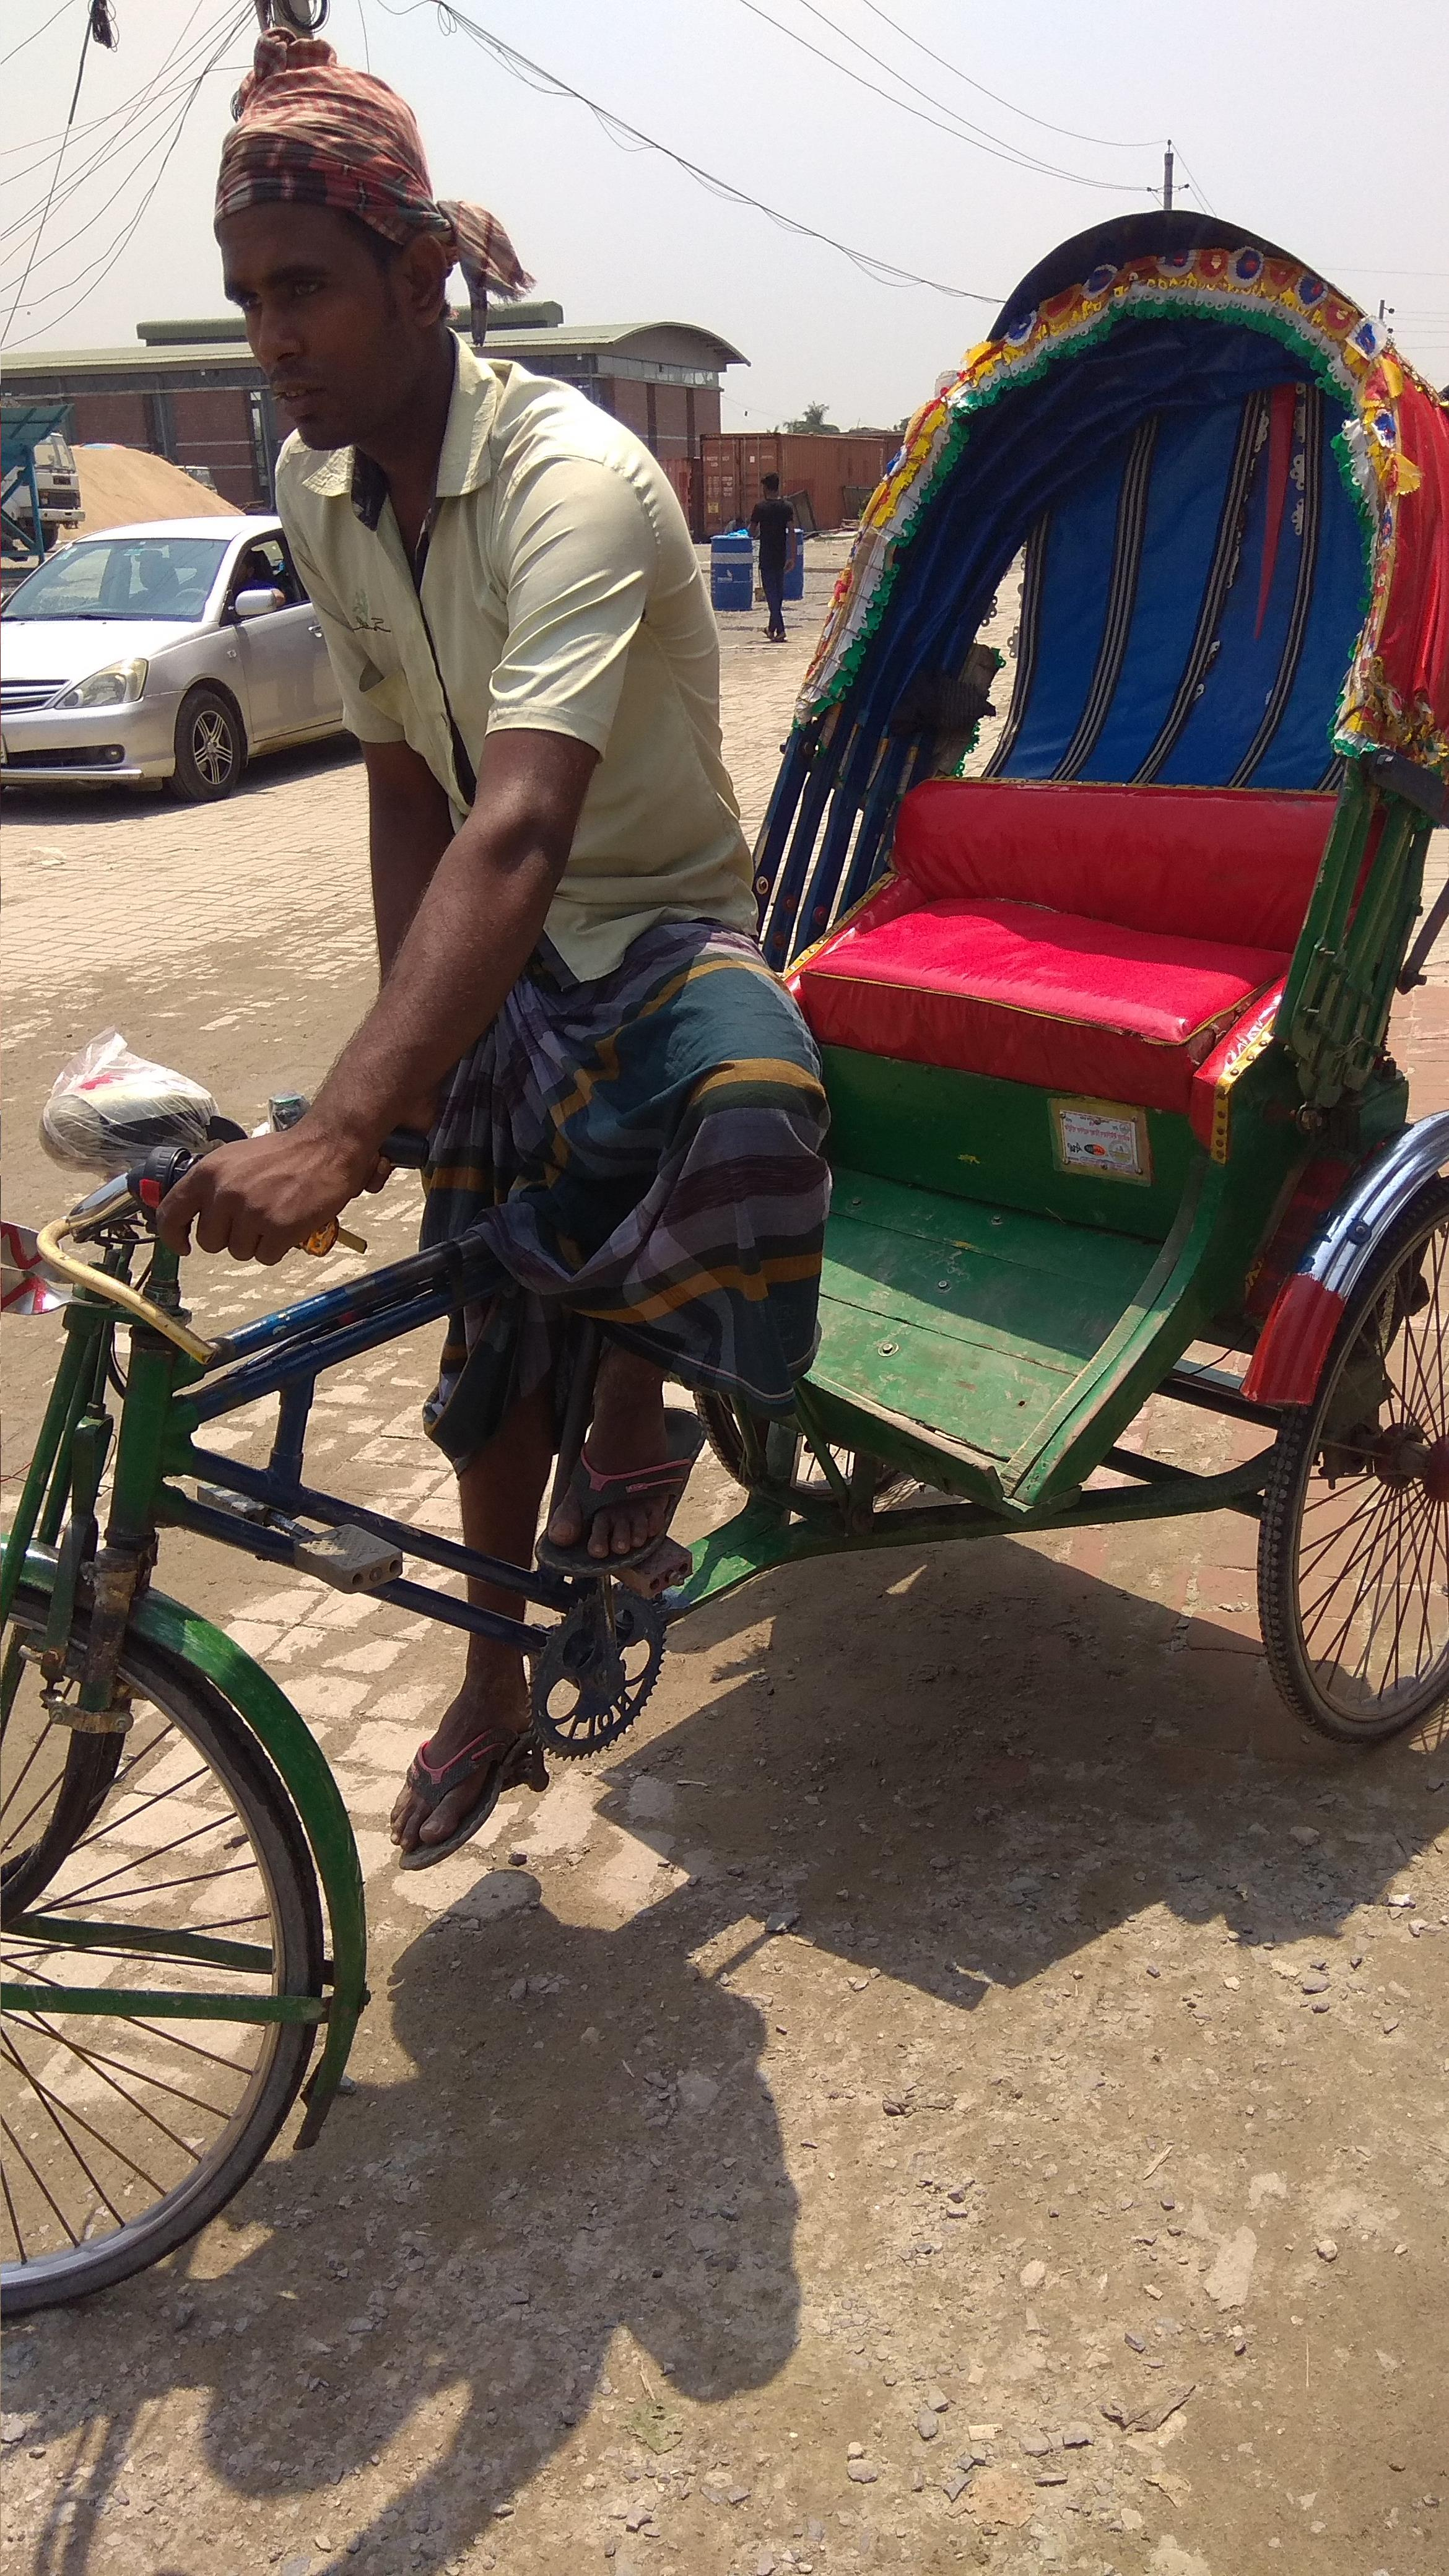Rickshaw: (4, 122, 1412, 2017)
